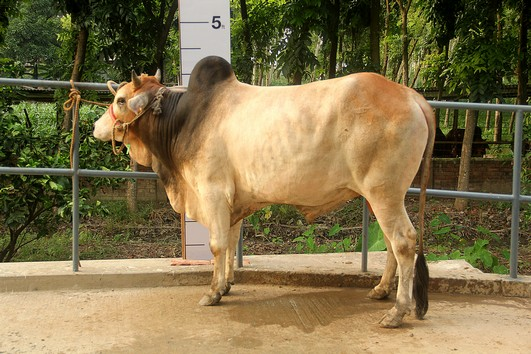cow: (89, 53, 445, 331)
